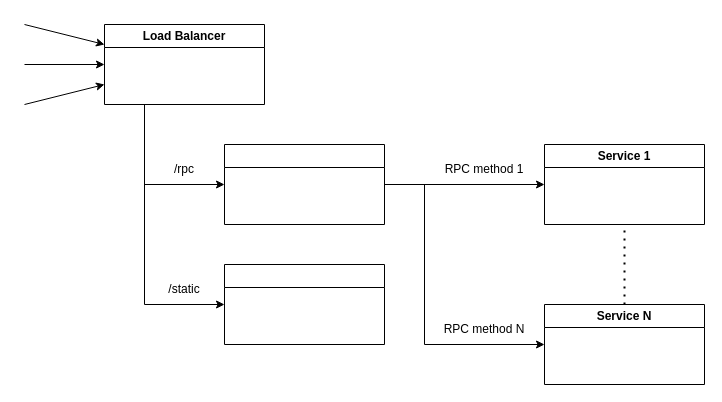
The diagram is 722 pixels wide and 402 high, and some of its shapes have lost their labels. The box of each missing label's shape, as (x1, y1, x2, y2) in pixels:
RPC Gateway: (224, 144, 384, 224)
Static Gateway: (224, 264, 384, 344)
